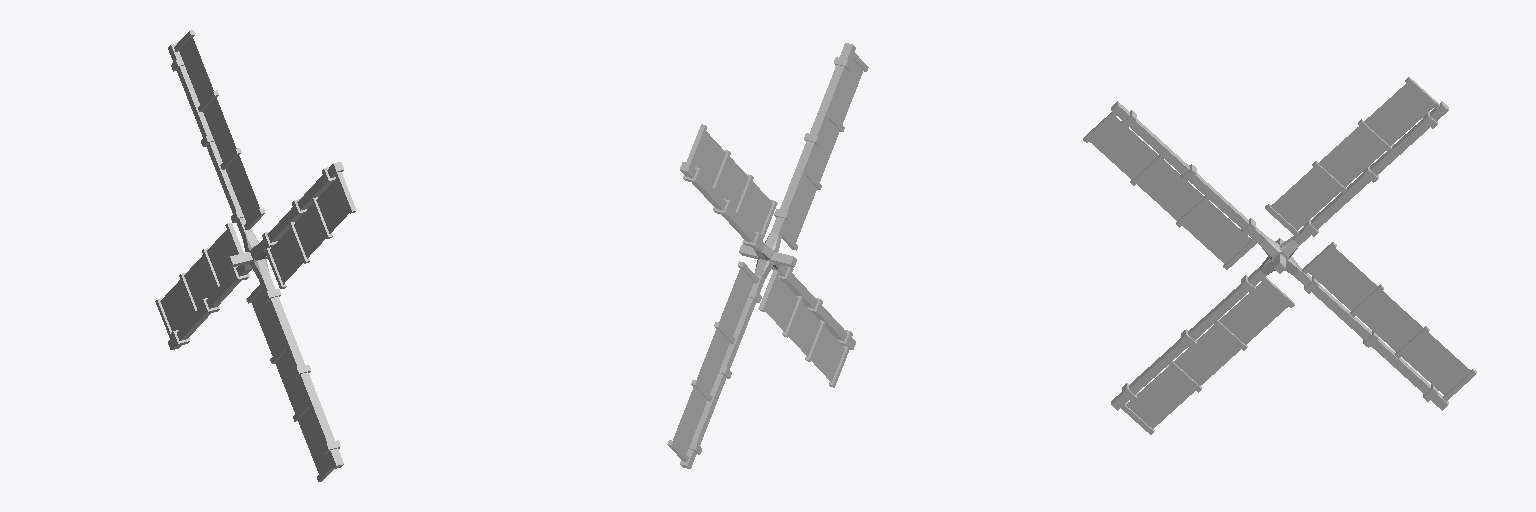
The model's file is millbase_wings.obj.
The picture shows the model from 3 angles: view 1: azimuth 30°, elevation 25°; view 2: azimuth 150°, elevation 25°; view 3: azimuth 270°, elevation 25°; orthographic projection.
Visible parts, largest first — view 1: windmill; view 2: windmill; view 3: windmill.
Boxes of the visible parts, x1,y1,x2,y2 form: windmill: [155, 30, 356, 481]; windmill: [667, 43, 868, 468]; windmill: [1083, 77, 1476, 434].
Bounding box in the file's own units: 0.471 × 3.07 × 3.07.